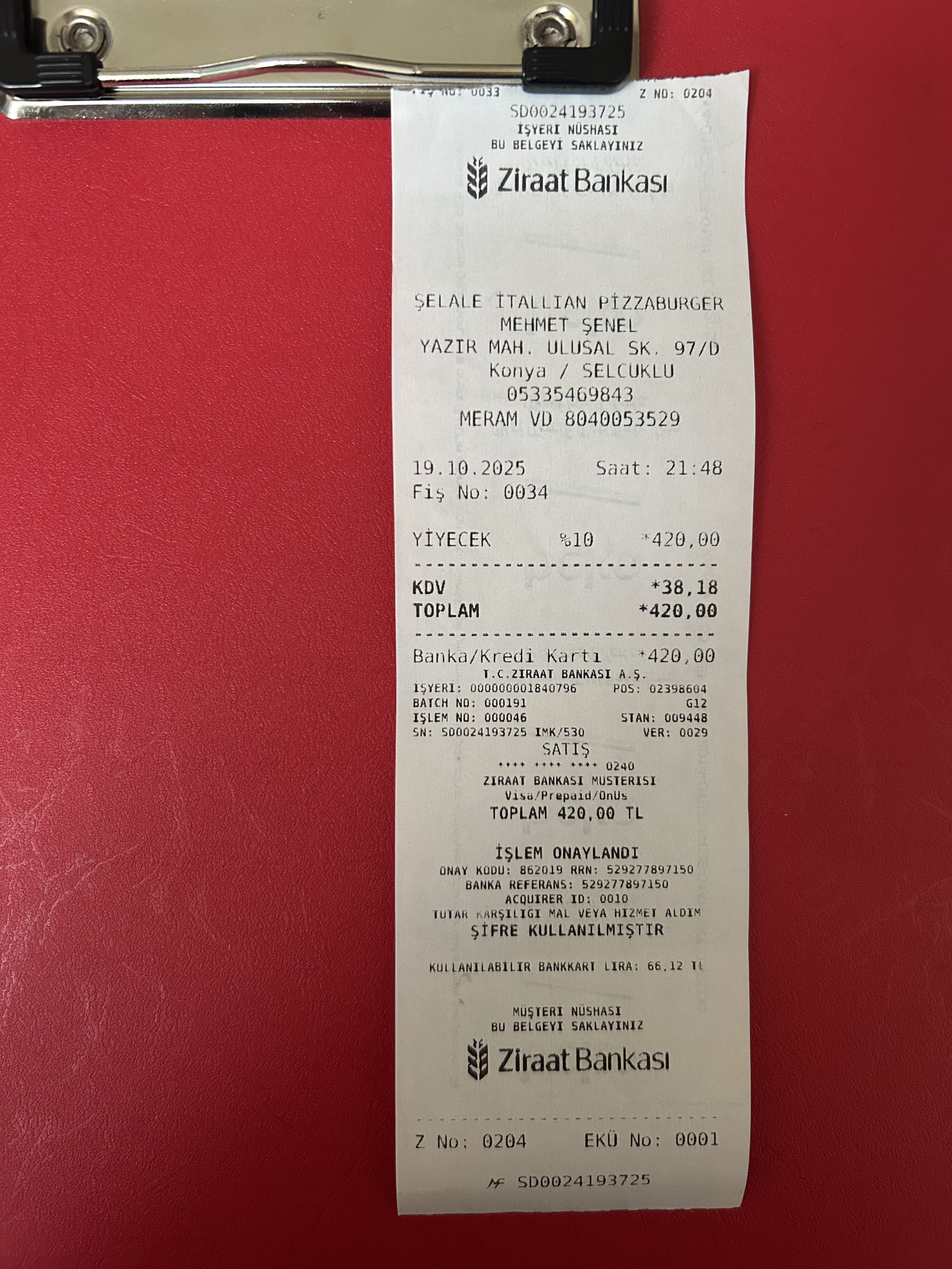date: (649, 597, 724, 626)
price: (406, 451, 530, 480)
workplace: (401, 285, 733, 382)
